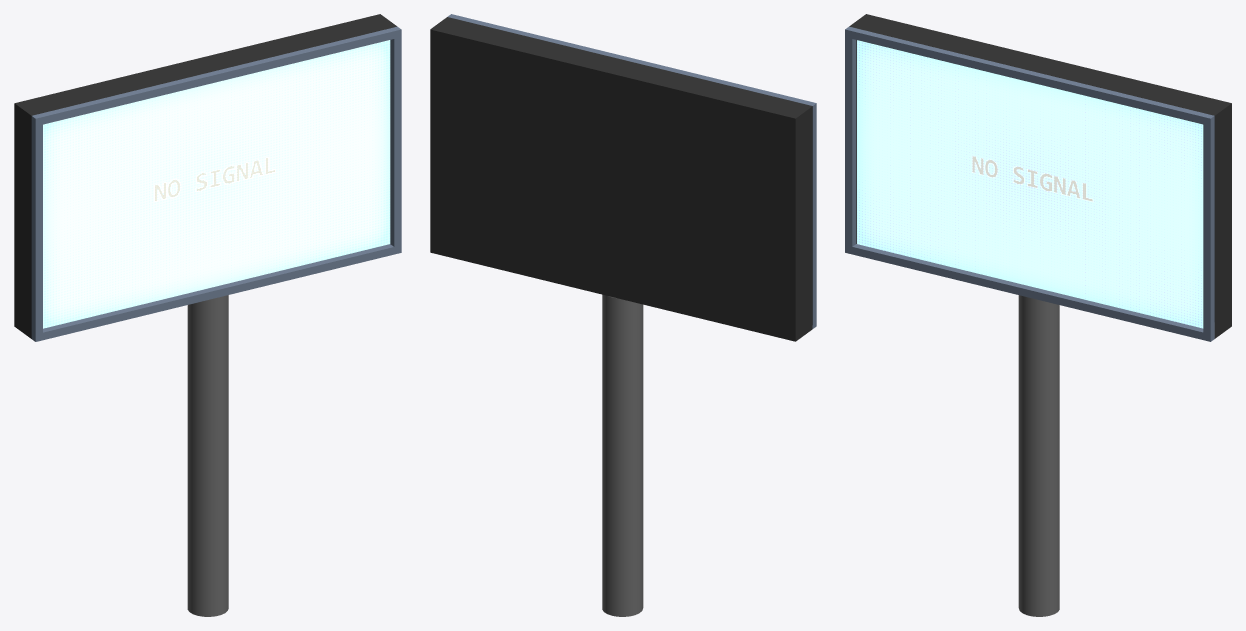
File: backgroun billboard 2.fbx
3 views of the same model, side by side, from view 1: azimuth 30°, elevation 25°; view 2: azimuth 150°, elevation 25°; view 3: azimuth 330°, elevation 25° (orthographic).
Visible parts, largest first — view 1: billboard.003; view 2: billboard.003; view 3: billboard.003.
Boxes of the visible parts, bbox=[...] form: billboard.003: bbox=[14, 14, 401, 616]; billboard.003: bbox=[430, 14, 816, 616]; billboard.003: bbox=[845, 14, 1231, 616].
Bounding box in the file's own units: 1320 × 1870 × 133.
4 materials, 4 textured.
